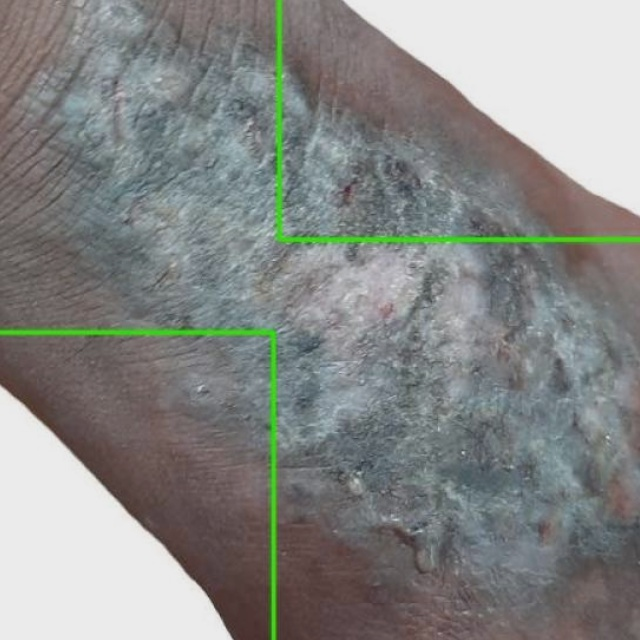Contact Dermatitis: (279, 0, 639, 239), (0, 333, 273, 639)
